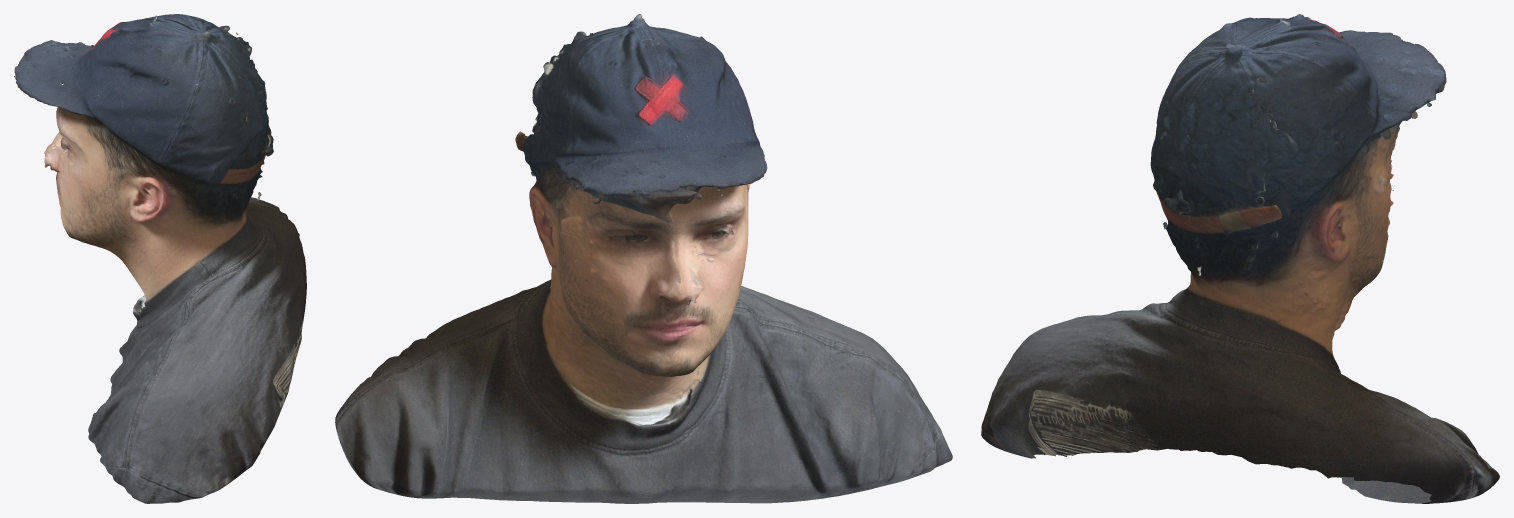
The model's file is selfportrait-tex.glb.
The picture shows the model from 3 angles, left to right: view 1: azimuth 30°, elevation 25°; view 2: azimuth 150°, elevation 25°; view 3: azimuth 270°, elevation 25°; orthographic projection. The views are drawn at different scales.
Parts seen in each view (by area): view 1: selfportrait; view 2: selfportrait; view 3: selfportrait.
Boxes of the visible parts, x1,y1,x2,y2 form: selfportrait: [14, 14, 306, 503]; selfportrait: [335, 14, 952, 503]; selfportrait: [981, 14, 1499, 503].
Size of the model in its own units: 0.0482 by 0.0586 by 0.0584.
Materials: 1 (1 with a texture image).
